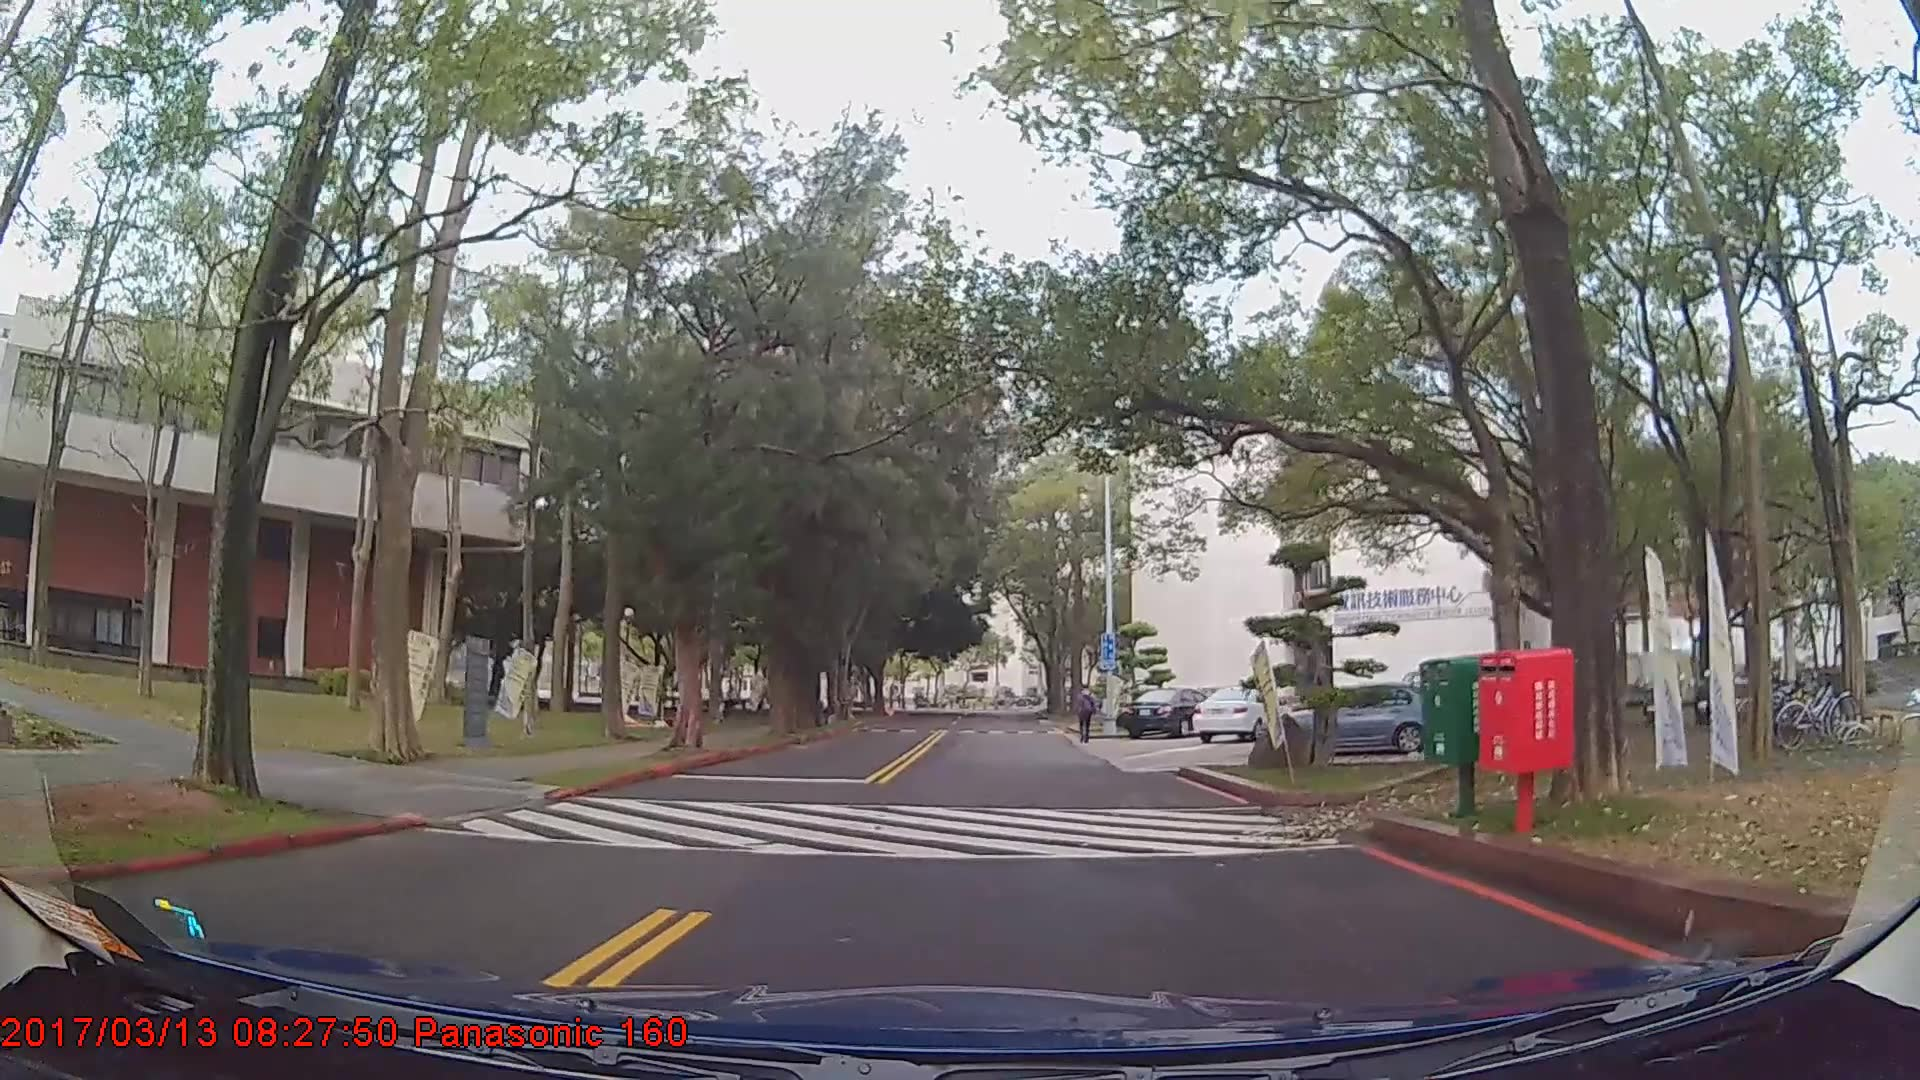pedestrian: (1071, 684, 1098, 747)
vehicle: (1188, 683, 1282, 744), (1115, 687, 1215, 738)
